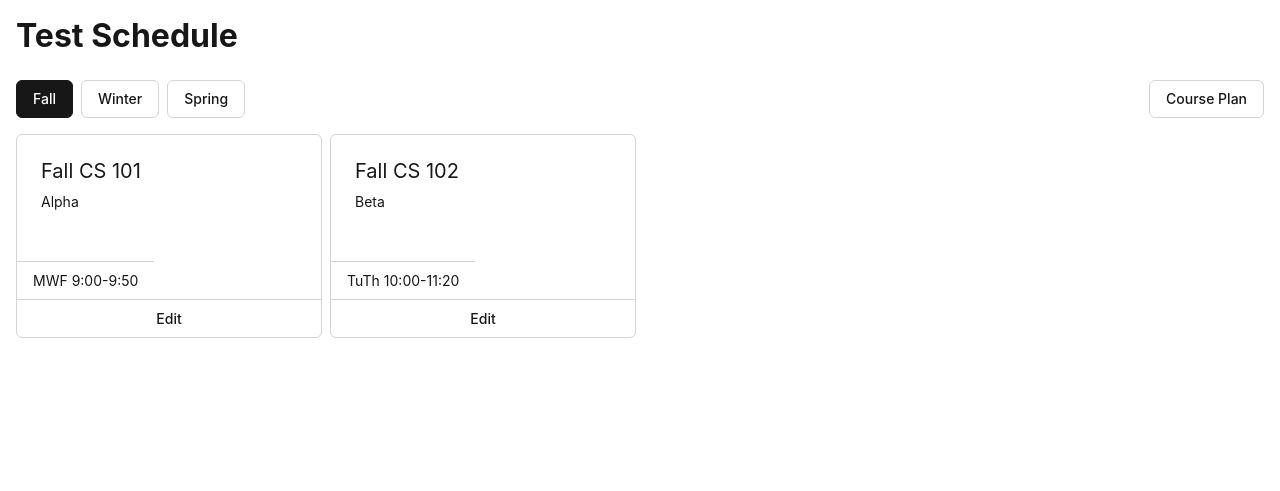
Test: Edit course validation › shows inputs for all four fields prefilled with the course data
The image size is (1280, 491).
Expected: the heading "Test Schedule" is shown, [16,16,238,55]
Expected: the button "Fall CS 101 Alpha MWF 9:00-9:50" is shown, [17,134,321,298]
Step 1. Click the 1st link "Edit" → (169, 318), box [17,298,321,336]
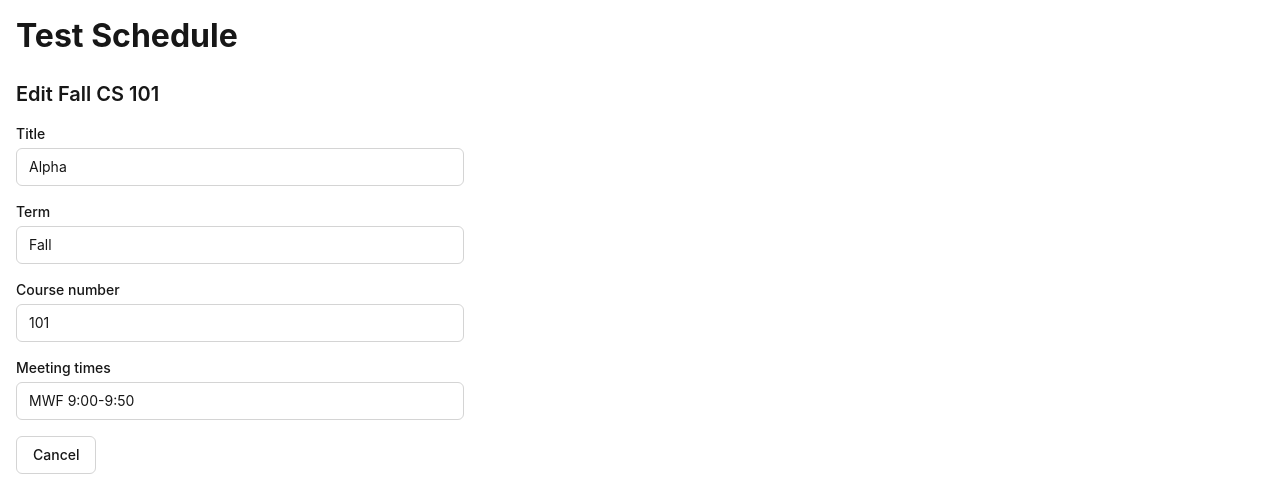
Result: the heading "Edit Fall CS 101" is shown at [16,82,159,106]
Result: the field labelled "Title" holds "Alpha" at [16,148,464,186]
Result: the field labelled "Term" holds "Fall" at [16,226,464,264]
